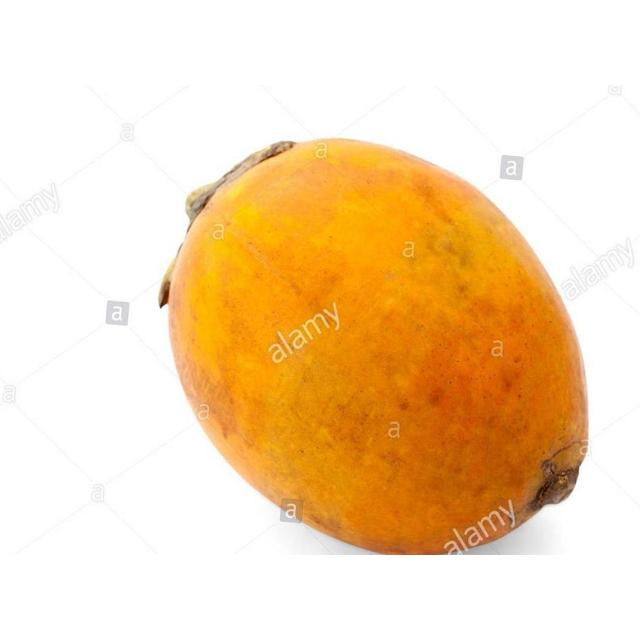good: (162, 139, 590, 555)
